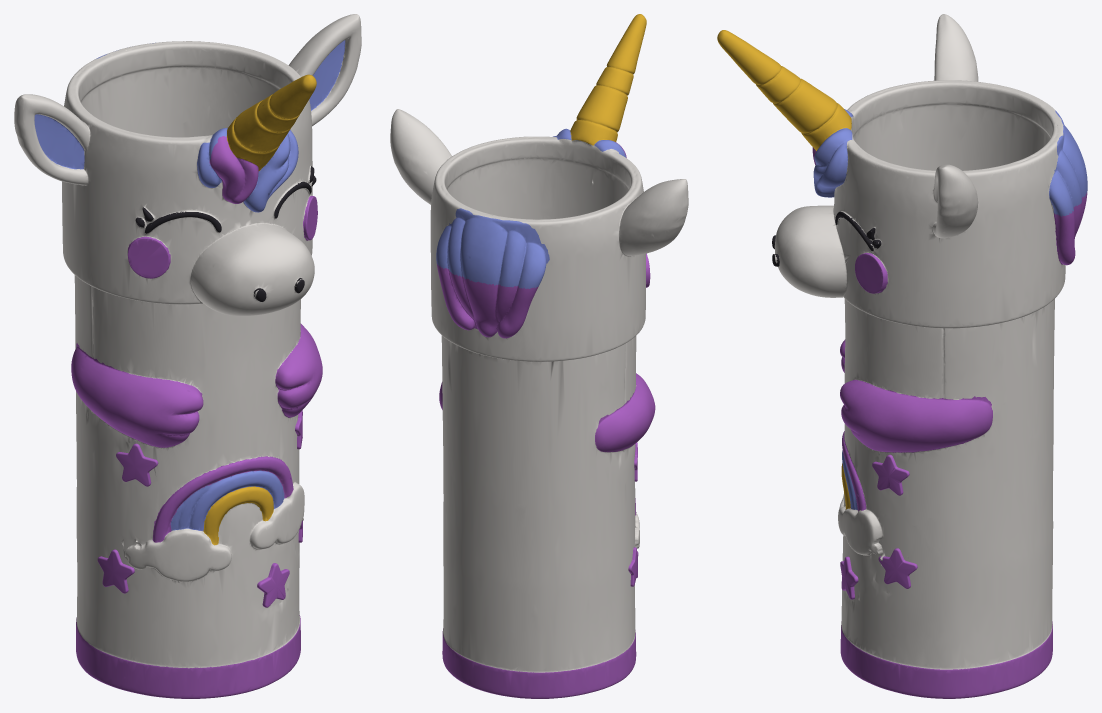
The model's file is unicornioscopio.glb.
The picture shows the model from 3 angles, left to right: view 1: azimuth 30°, elevation 25°; view 2: azimuth 150°, elevation 25°; view 3: azimuth 270°, elevation 25°; orthographic projection. The views are drawn at different scales.
Visible parts, largest first — view 1: unicornioscopio; view 2: unicornioscopio; view 3: unicornioscopio.
Boxes of the visible parts, x1,y1,x2,y2 form: unicornioscopio: (14,14,361,698); unicornioscopio: (390,14,688,698); unicornioscopio: (717,14,1087,698).
Bounding box in the file's own units: 1.02 × 1.89 × 1.02.
